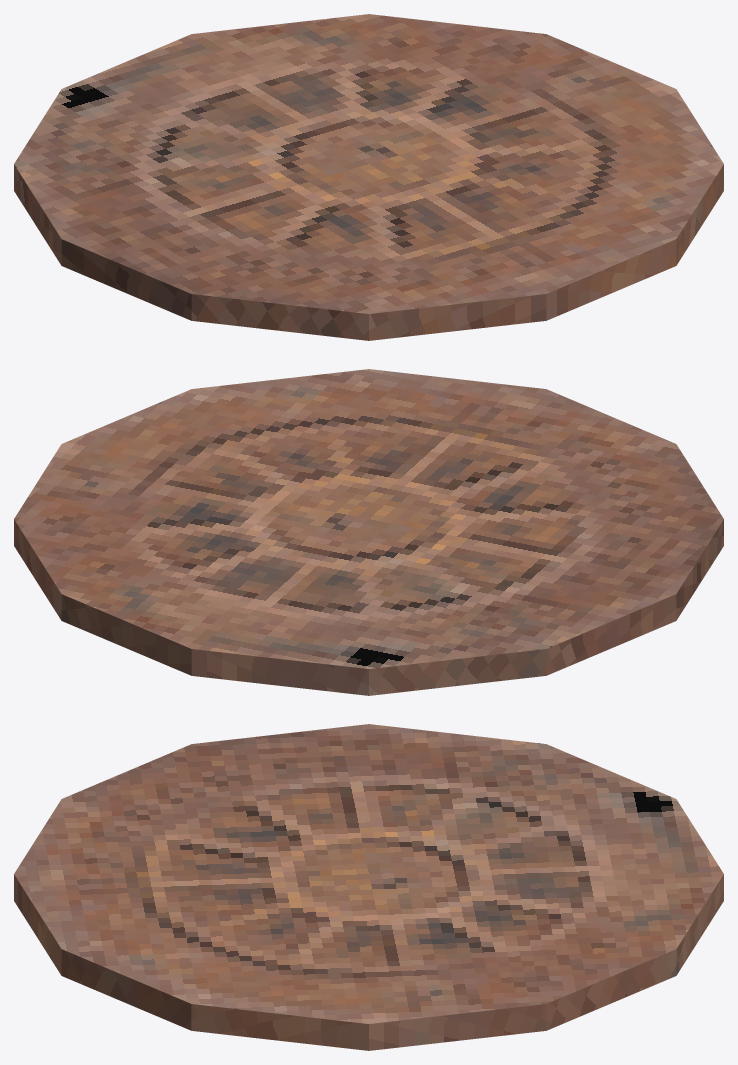
The model's file is manhole_cover.glb.
3 views of the same model, one above another, from view 1: azimuth 30°, elevation 25°; view 2: azimuth 150°, elevation 25°; view 3: azimuth 270°, elevation 25° (orthographic).
Visible parts, largest first — view 1: Cylinder; view 2: Cylinder; view 3: Cylinder.
Boxes of the visible parts, <box> form: Cylinder: <box>14,14,723,340</box>; Cylinder: <box>14,369,723,695</box>; Cylinder: <box>14,724,723,1050</box>.
Size of the model in its own units: 2 by 0.0835 by 2.
Materials: 2 (2 with a texture image).
